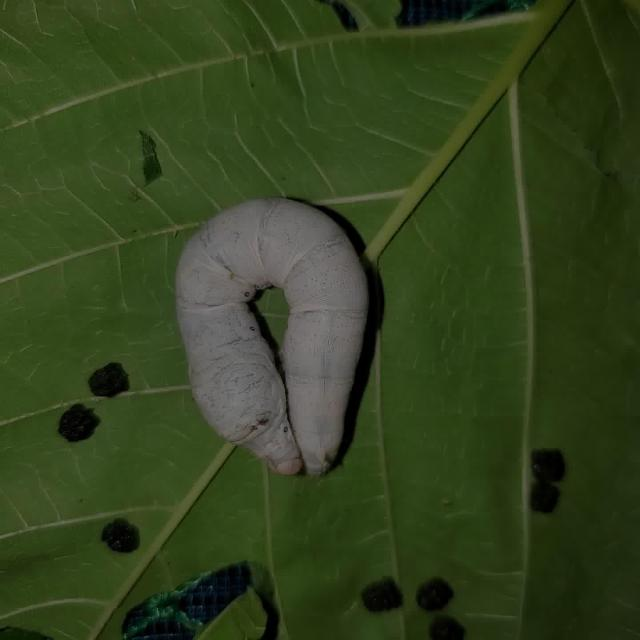Healthy: (141, 171, 401, 521)
